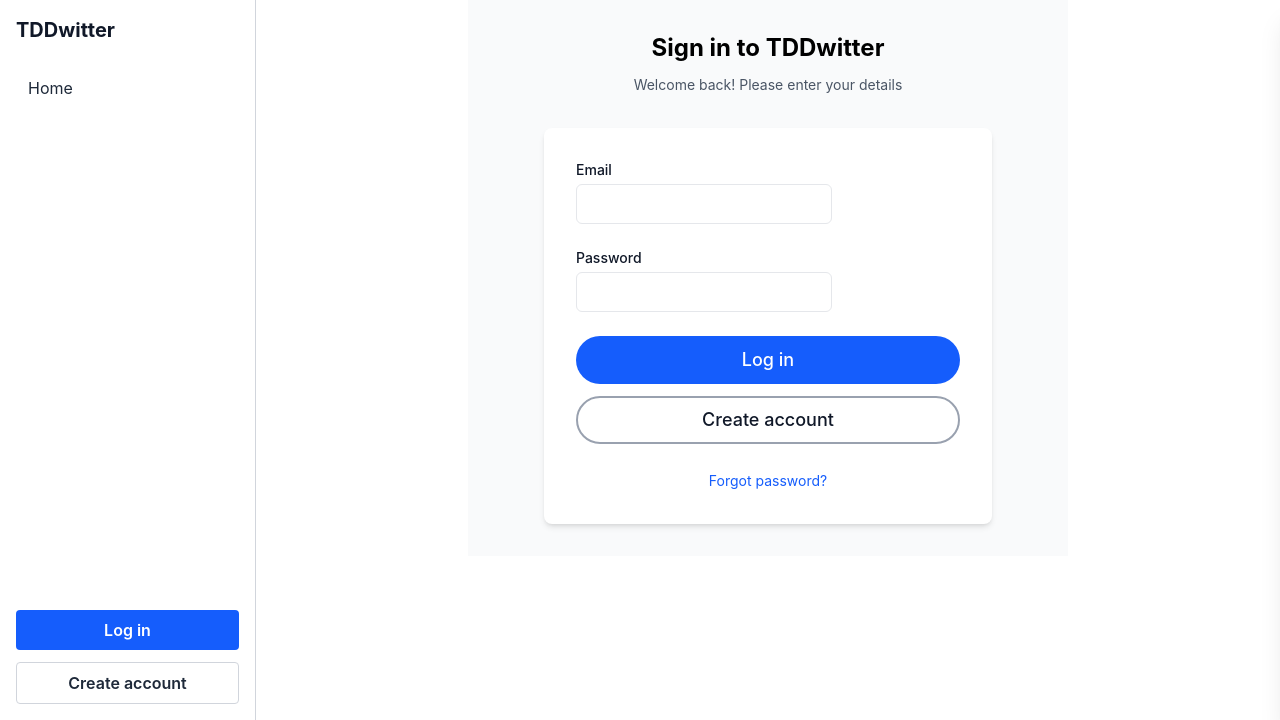
Test: Login page › AC-LOGIN-21: shows the generic error alert and stays on the page when the API fails with 500
This screenshot has width=1280, height=720.
Type "user@example.com" into the field labelled "Email" at (704, 204), box x1=576 y1=184 x2=832 y2=224
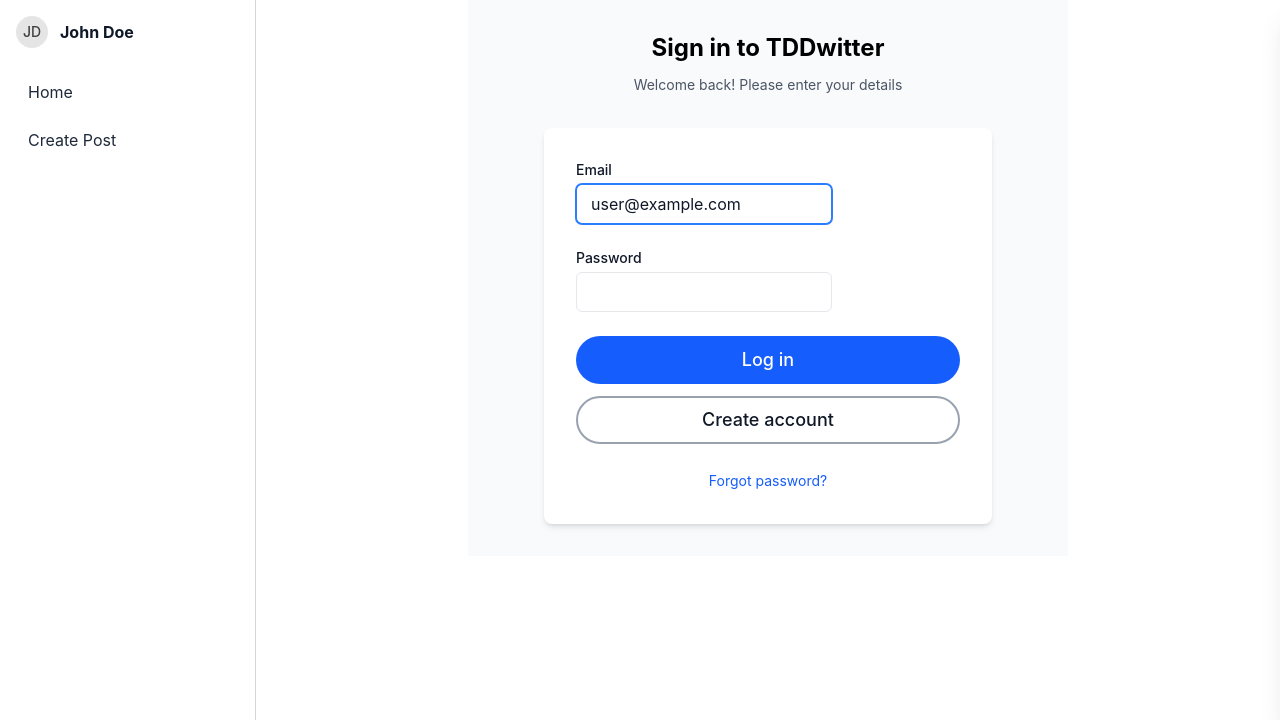
Type "correct-horse-battery" into the password field labelled "Password" at (704, 292), box x1=576 y1=272 x2=832 y2=312
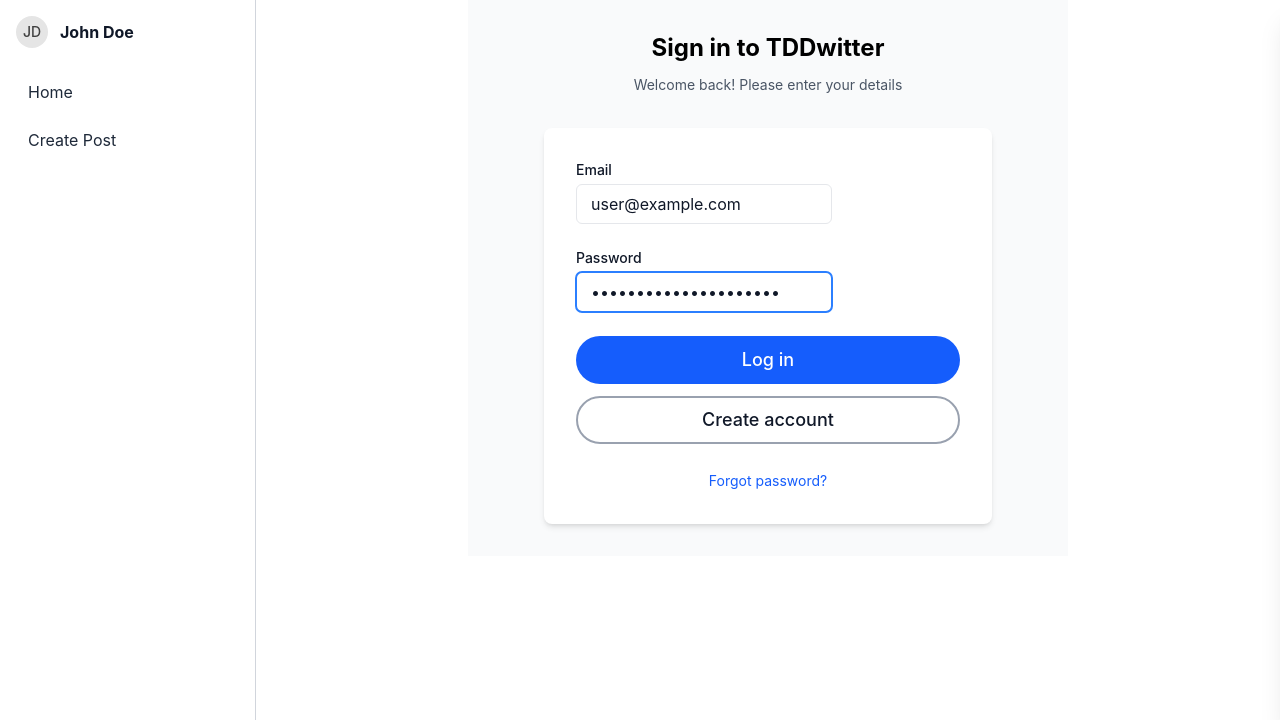
Click the button "Log in" at (768, 360), box x1=576 y1=336 x2=960 y2=384
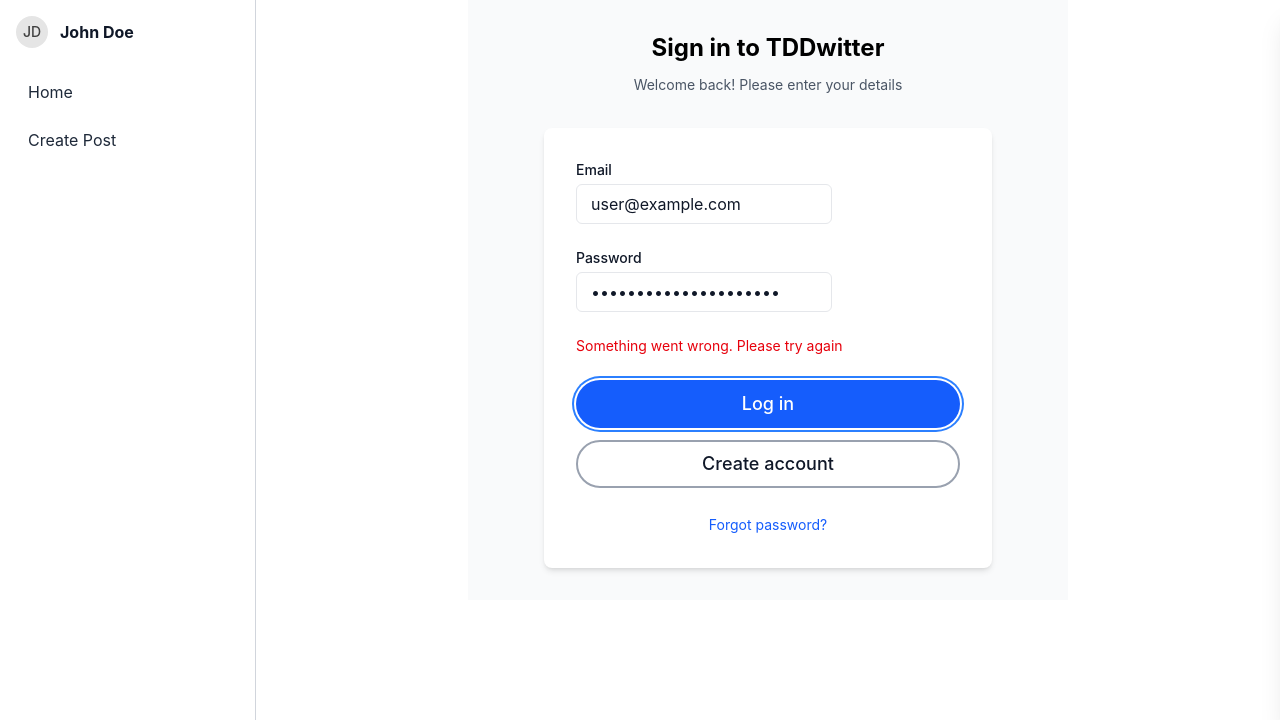
Check: the button "Log in" is enabled, box x1=576 y1=380 x2=960 y2=428
Check: the message reads "Something went wrong. Please try again", box x1=576 y1=337 x2=842 y2=354
